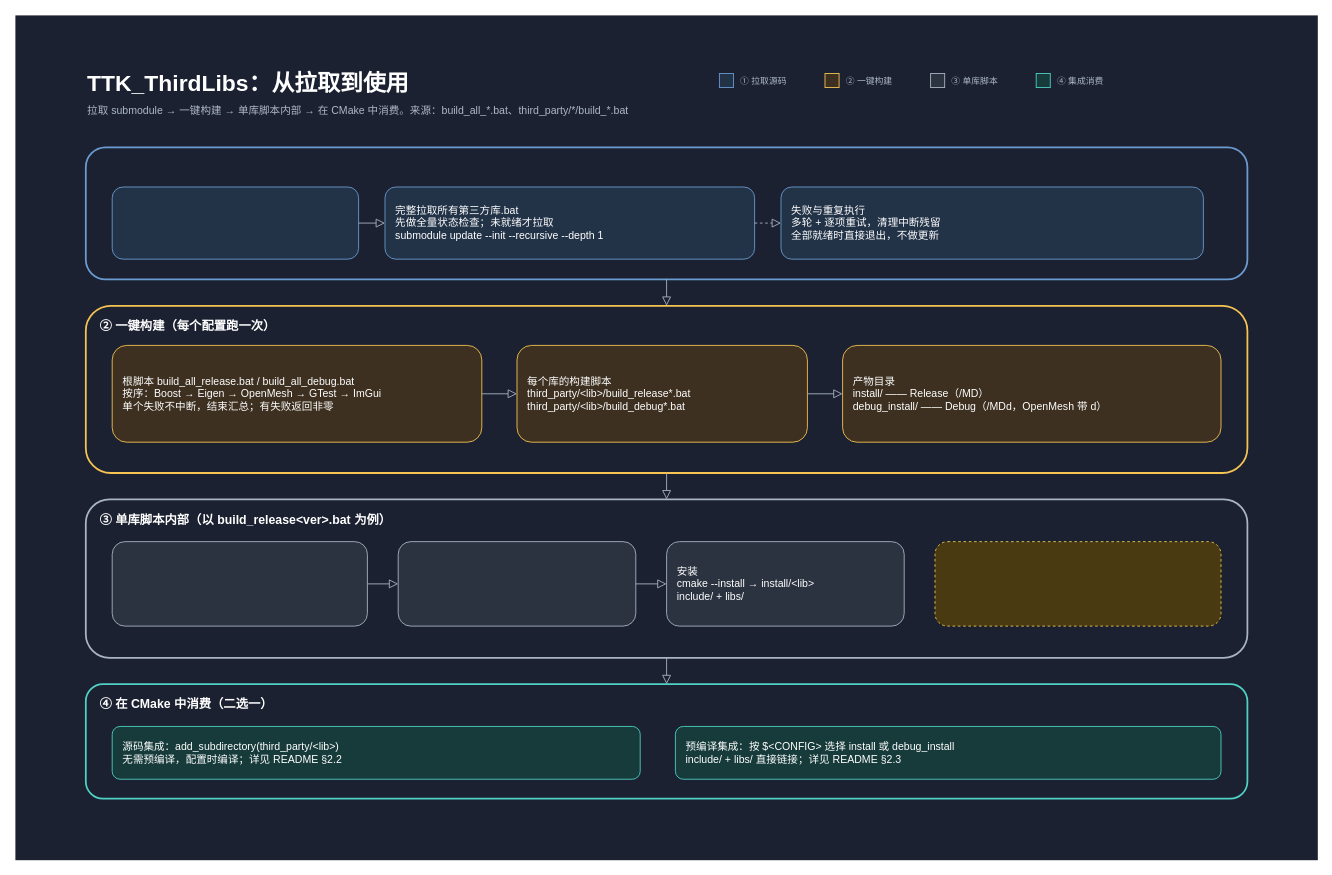
This 1332x875 diagram has some shape labels left out. Here are the shapes that lost their labels. From the top down, the box of each, then its label:
(111, 186, 359, 259): 前置条件 Visual Studio 2022（v143） CMake 在 PATH，x64
(84, 146, 1248, 280): ① 拉取源码（一次性）
(111, 541, 367, 626): CMake 配置 cmake -S 源码 -B build/<lib>-release -G "Visual Studio 17 2022" -A x64
(397, 541, 636, 626): 编译 cmake --build build/<lib>-release --config Release
(934, 541, 1221, 626): 注意 GTest / ImGui 走包装 CMakeLists Boost 需先拉取 170 个嵌套子模块
